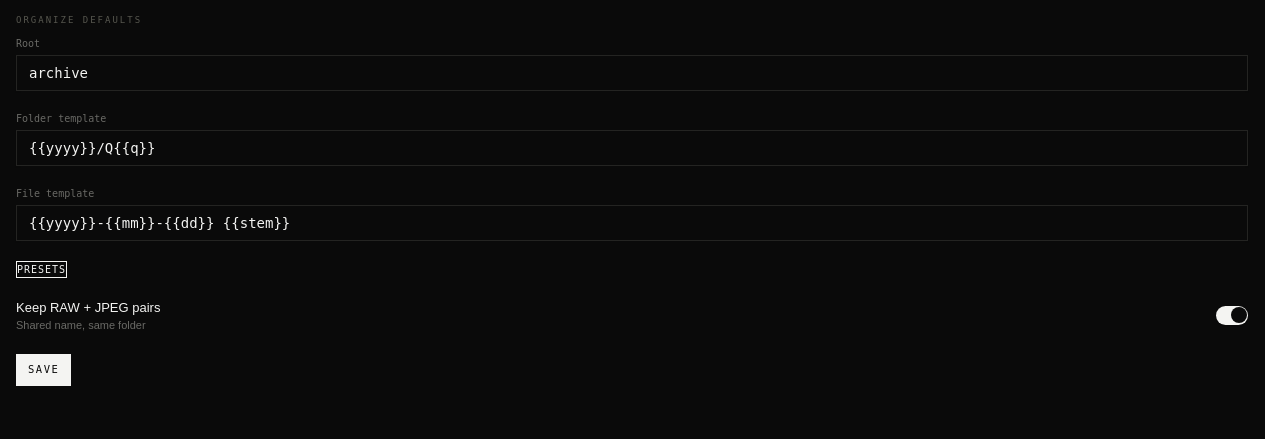
Scenario: shows an inline validation error when the save is refused
Expected: the field named "Default root" is shown, [16,54,1248,90]
Click the button "SAVE": (44, 370) [16,354,71,386]
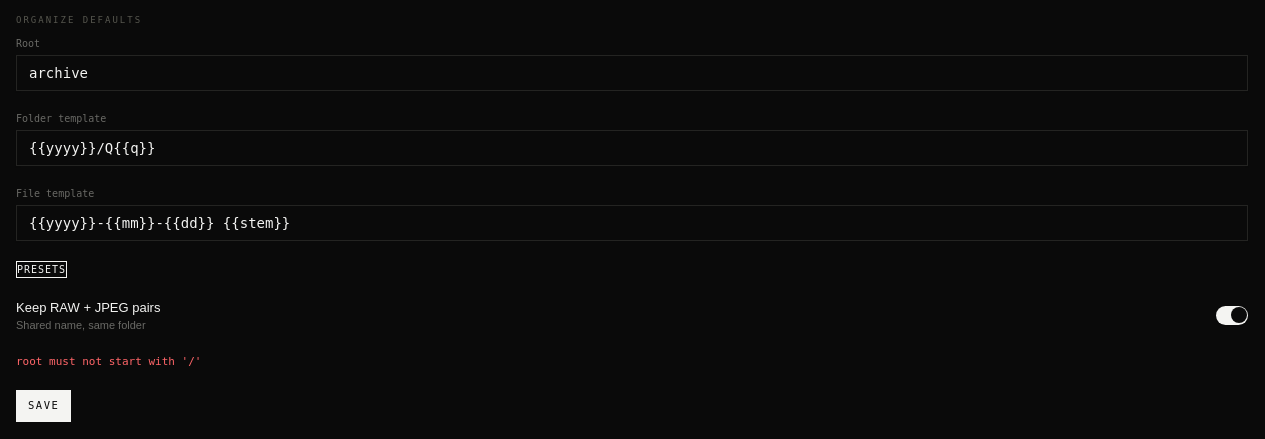
Expected: the text "root must not start with '/'" is shown, [16,354,201,368]
